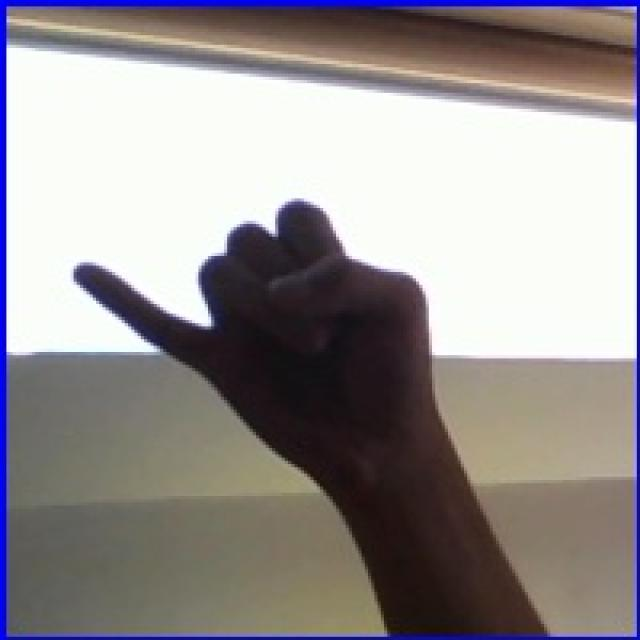J: (57, 138, 524, 493)
